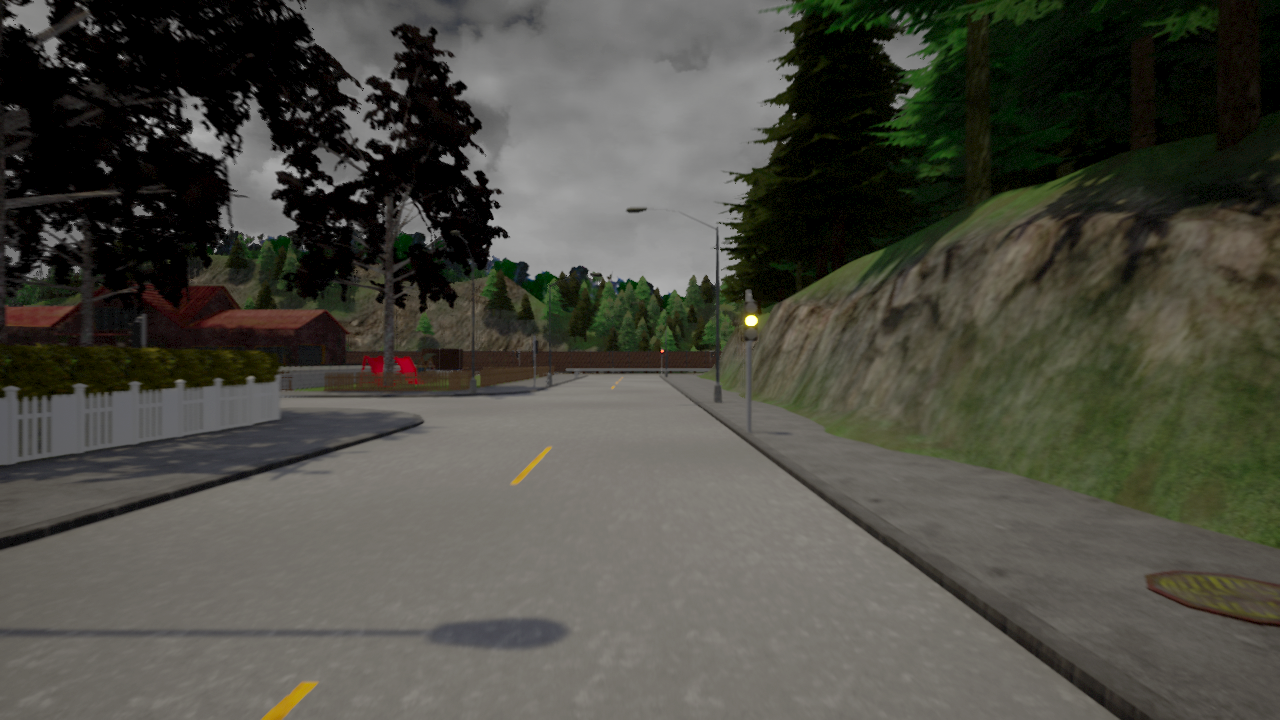yellow: (744, 301, 759, 342)
